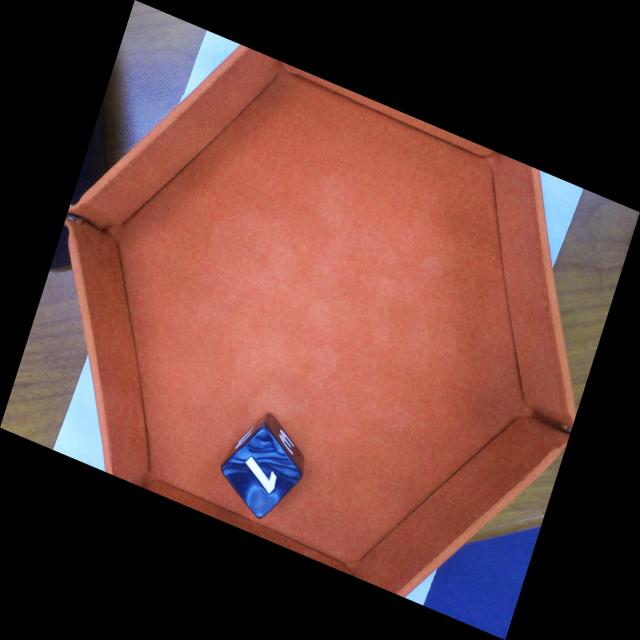dice: (217, 421, 306, 520)
